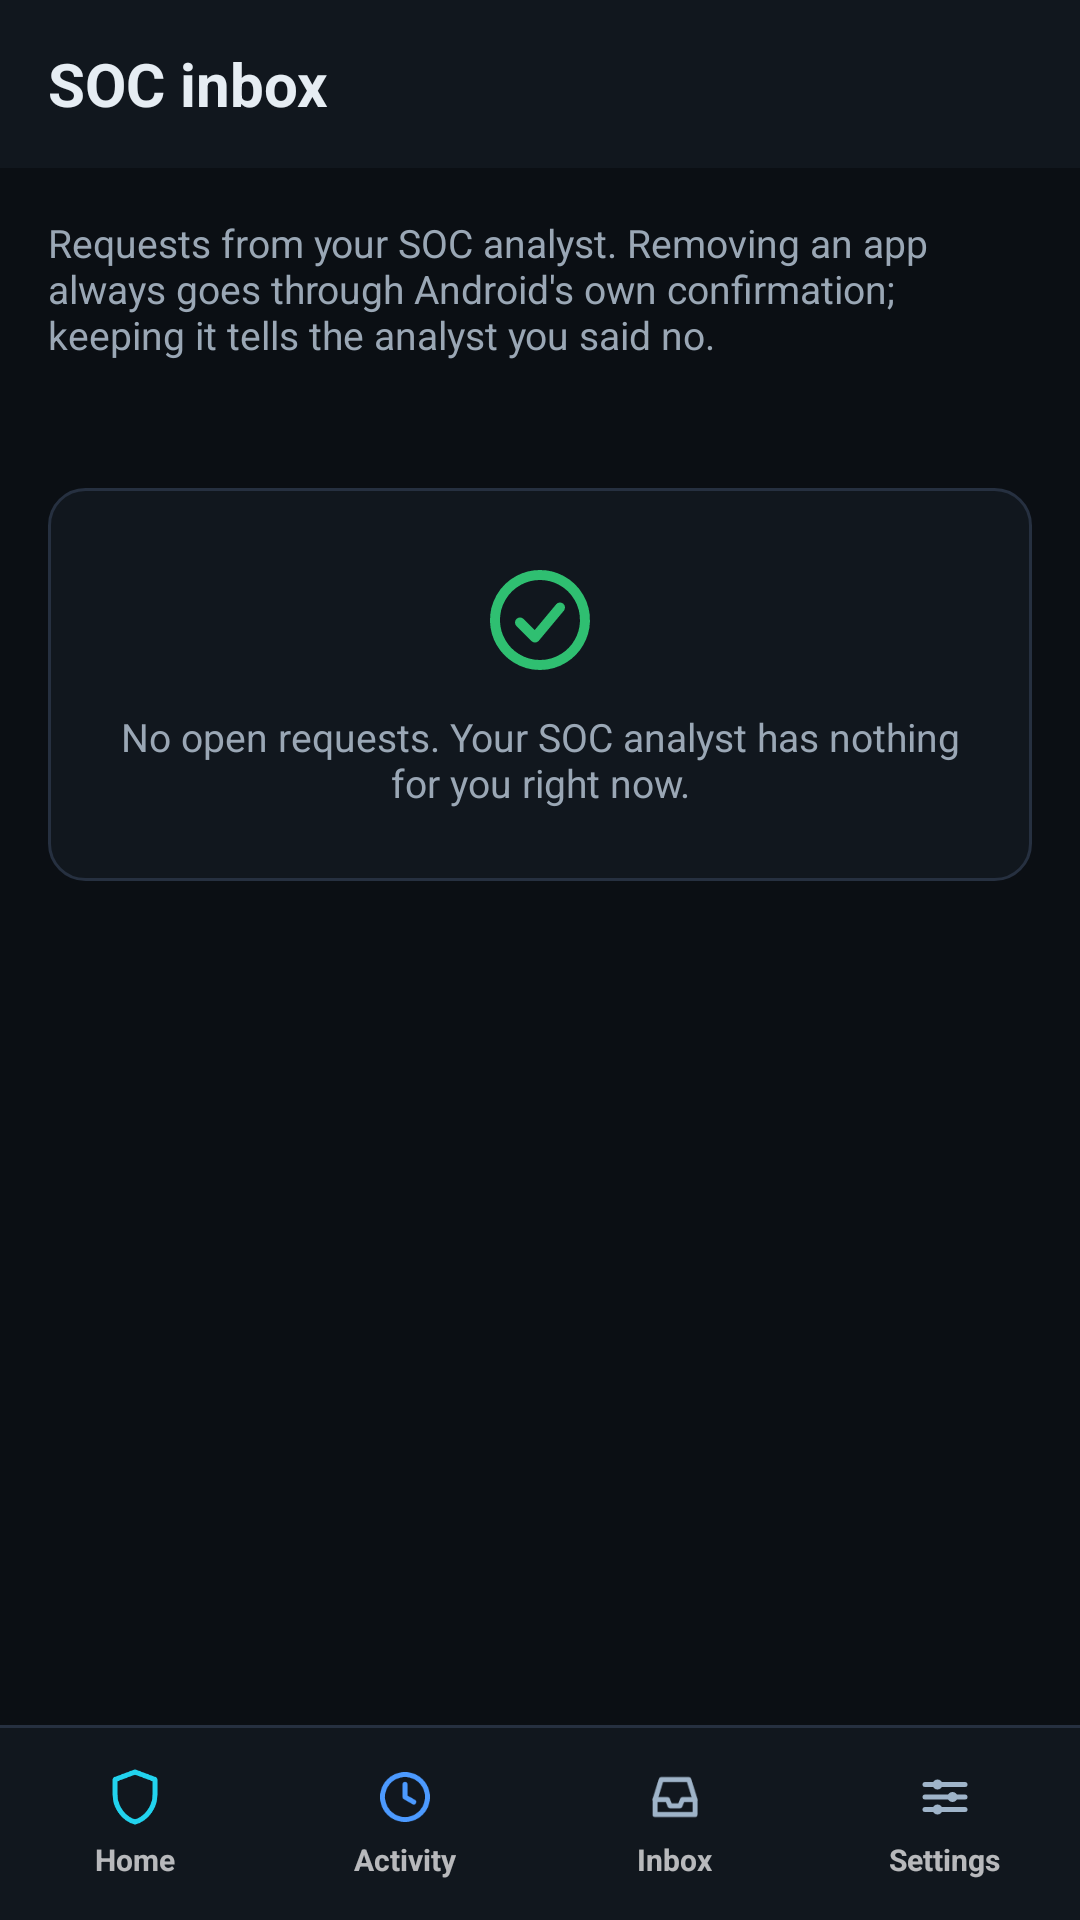

Icon click points for this 1080px x 1920px phone screenshot, format (x=x, y=y):
check circle: (x=540, y=620)
clock: (x=405, y=1797)
shield: (x=135, y=1797)
